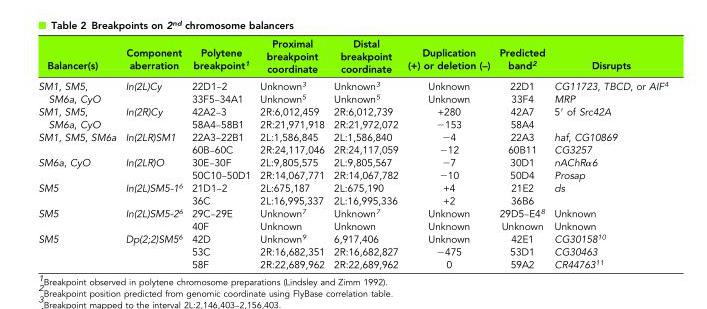table: (37, 36, 667, 270)
table column: (549, 36, 667, 270), (402, 36, 494, 270), (37, 36, 120, 270), (254, 36, 328, 270), (328, 36, 402, 270), (186, 36, 254, 270), (120, 36, 186, 270), (494, 36, 549, 270)
table column header: (37, 36, 667, 76)
table row: (37, 36, 667, 76), (37, 76, 667, 92), (37, 104, 667, 117), (37, 117, 667, 130), (37, 130, 667, 143), (37, 155, 667, 168), (37, 168, 667, 181), (37, 193, 667, 206), (37, 206, 667, 219), (37, 219, 667, 232), (37, 244, 667, 257), (37, 257, 667, 270), (37, 92, 667, 104), (37, 143, 667, 155), (37, 181, 667, 193), (37, 232, 667, 244)
table spanning cell: (37, 232, 120, 270), (120, 232, 186, 270), (37, 76, 120, 104), (37, 104, 120, 130), (37, 155, 120, 181), (37, 206, 120, 232), (37, 130, 120, 155), (37, 181, 120, 206), (120, 76, 186, 104), (120, 104, 186, 130), (120, 155, 186, 181), (120, 206, 186, 232), (120, 130, 186, 155), (120, 181, 186, 206)
